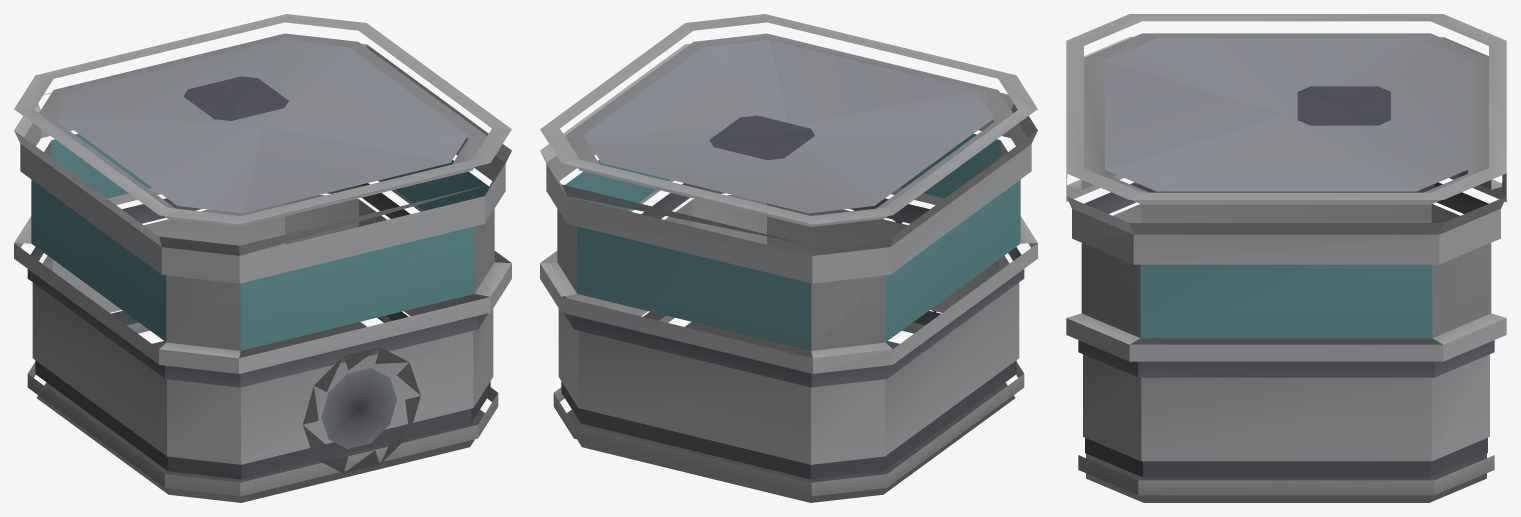
File: command.lod.glb
3 renders of one model, left to right at view 1: azimuth 30°, elevation 25°; view 2: azimuth 150°, elevation 25°; view 3: azimuth 270°, elevation 25°, orthographic. The views are drawn at different scales.
Parts seen in each view (by area): view 1: command; view 2: command; view 3: command.
Boxes of the visible parts, left/top/right/bottom form: command: left=14, top=14, right=511, bottom=502; command: left=540, top=14, right=1037, bottom=502; command: left=1066, top=14, right=1506, bottom=502.
Bounding box in the file's own units: 12 × 9.39 × 12.
